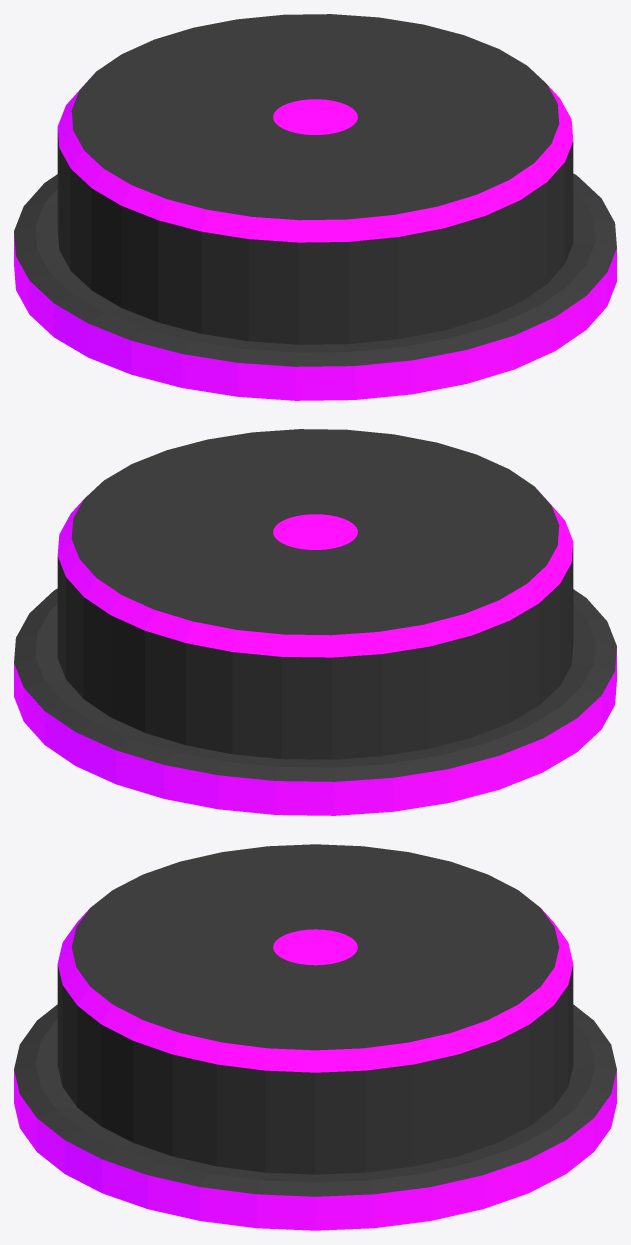
Rendered from AmmoSpawn.fbx.
3 renders of one model, top to bottom at view 1: azimuth 30°, elevation 25°; view 2: azimuth 150°, elevation 25°; view 3: azimuth 270°, elevation 25°, orthographic.
Visible parts, largest first — view 1: AmmoSpawn; view 2: AmmoSpawn; view 3: AmmoSpawn.
Part boxes in pixels (box(x1,y1,x2,y2)): AmmoSpawn: box(14, 14, 616, 400); AmmoSpawn: box(14, 429, 616, 815); AmmoSpawn: box(14, 844, 616, 1230).
Bounding box in the file's own units: 234 × 66.75 × 234.
